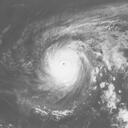cyclone: (41, 47, 83, 91)
